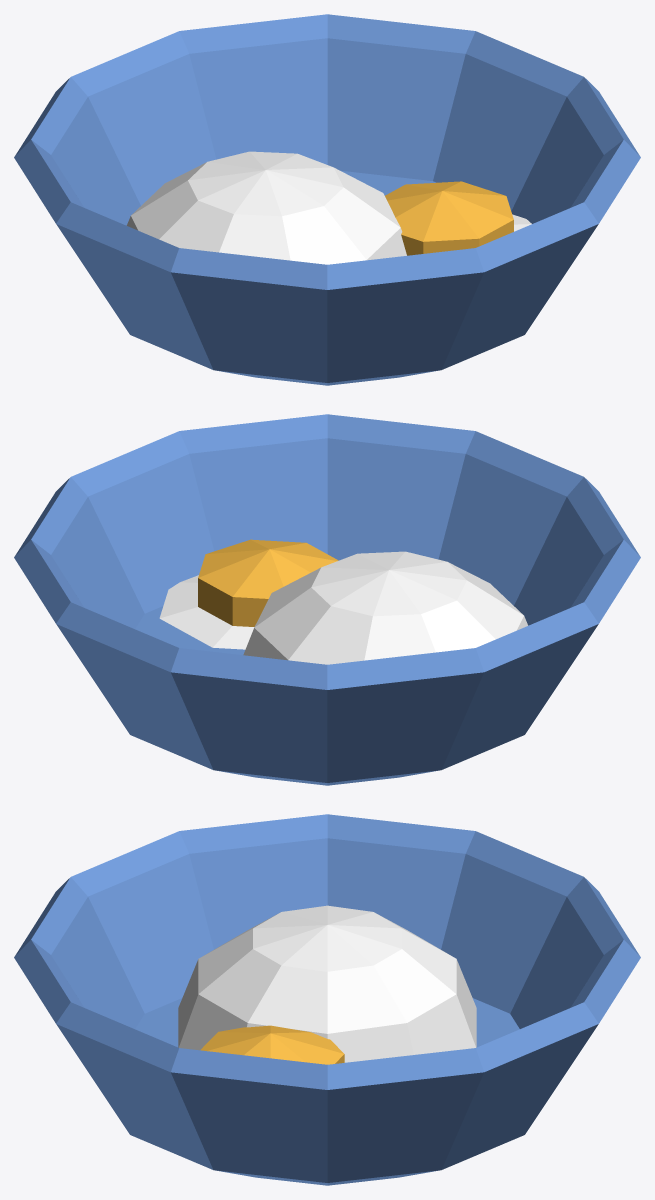
The model's file is batter-raw.glb.
3 renders of one model, top to bottom at view 1: azimuth 30°, elevation 25°; view 2: azimuth 150°, elevation 25°; view 3: azimuth 270°, elevation 25°, orthographic.
Visible parts, largest first — view 1: batter-raw; view 2: batter-raw; view 3: batter-raw.
Part boxes in pixels (x1,y1,x2,y2): batter-raw: (14, 14, 640, 385); batter-raw: (14, 414, 640, 785); batter-raw: (14, 814, 640, 1185).
Size of the model in its own units: 0.22 by 0.072 by 0.22.
Materials: 1 (1 with a texture image).
